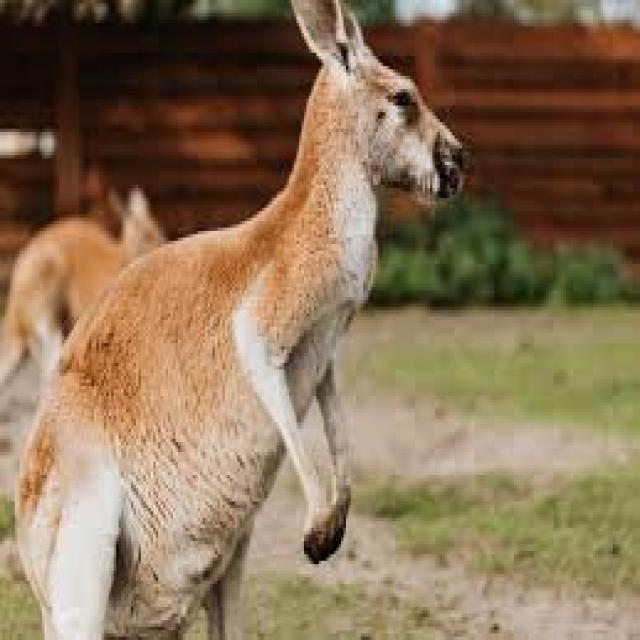Kangaroo: (9, 0, 483, 640)
